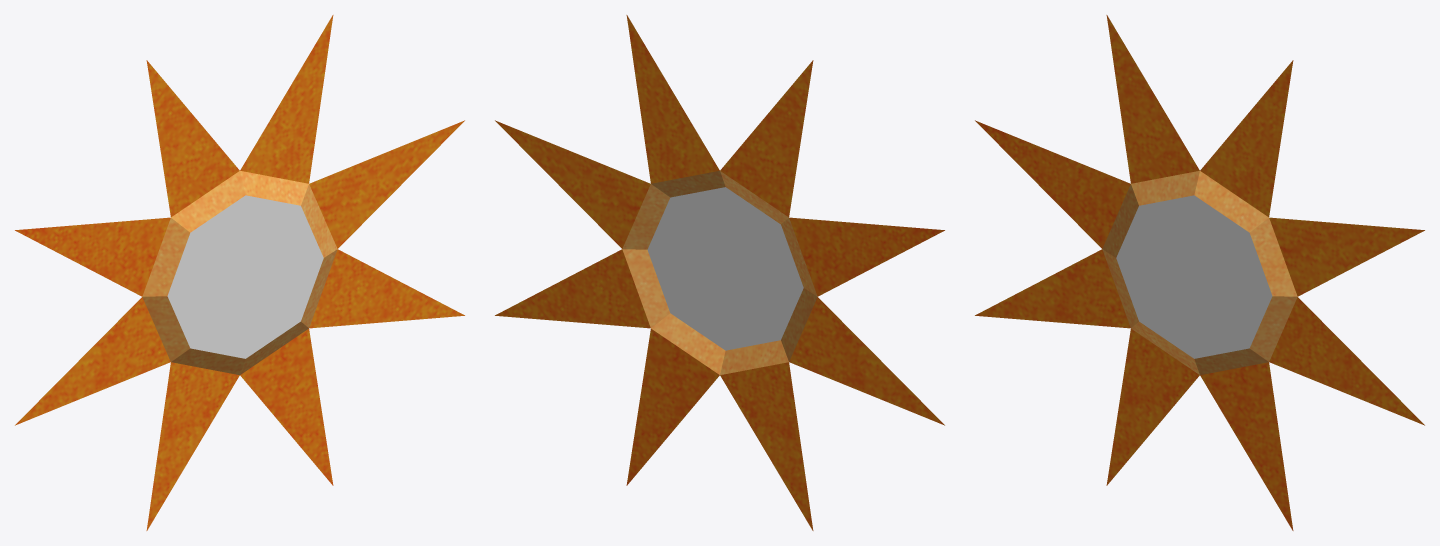
The model's file is clock_paperlike.fbx.
3 views of the same model, side by side, from view 1: azimuth 30°, elevation 25°; view 2: azimuth 150°, elevation 25°; view 3: azimuth 330°, elevation 25° (orthographic).
Visible parts, largest first — view 1: Circle.004; view 2: Circle.004; view 3: Circle.004.
Boxes of the visible parts, x1,y1,x2,y2 form: Circle.004: (15, 15, 464, 530); Circle.004: (495, 15, 944, 530); Circle.004: (975, 15, 1424, 530).
Bounding box in the file's own units: 462 × 462 × 10.
